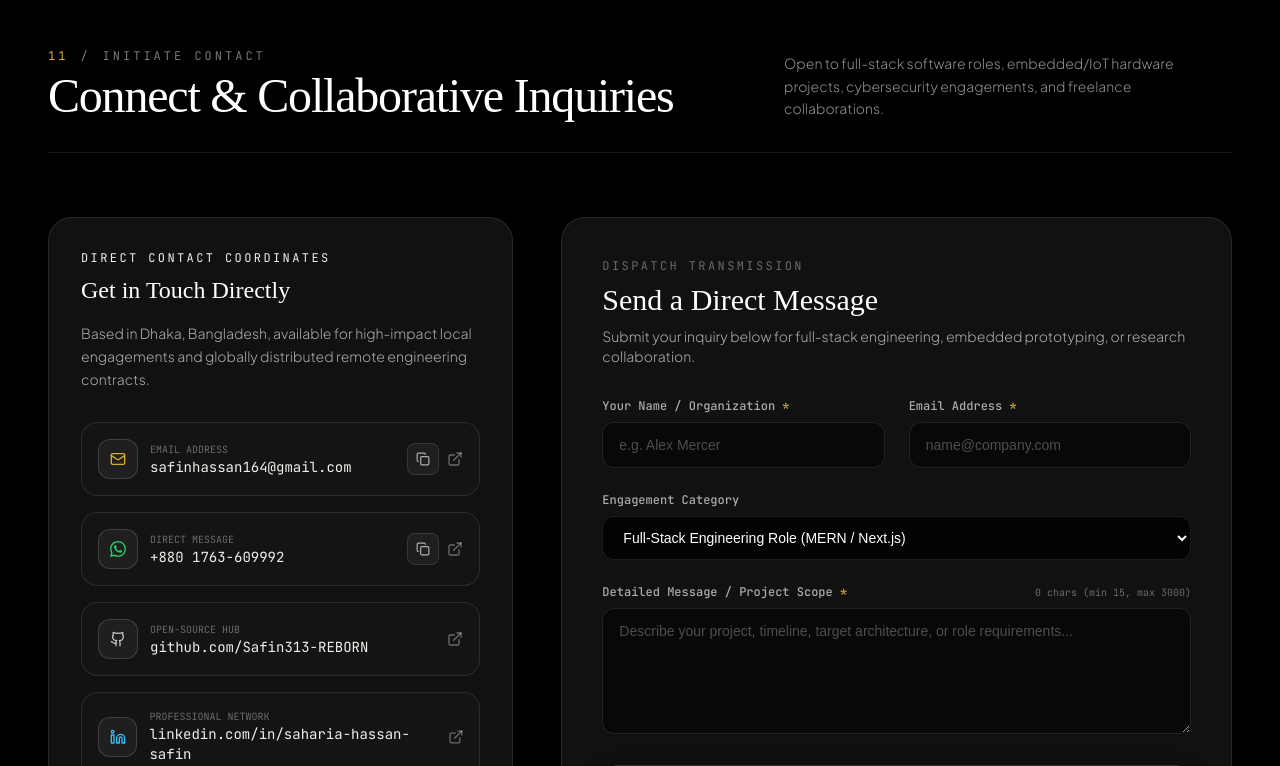
ContactSection User Journey & Boundary Validation › submits valid form silently in the background and renders success confirmation
Type "Jane Architect" into the field labelled "Your Name / Organization *" at (743, 445), box [602, 422, 885, 468]
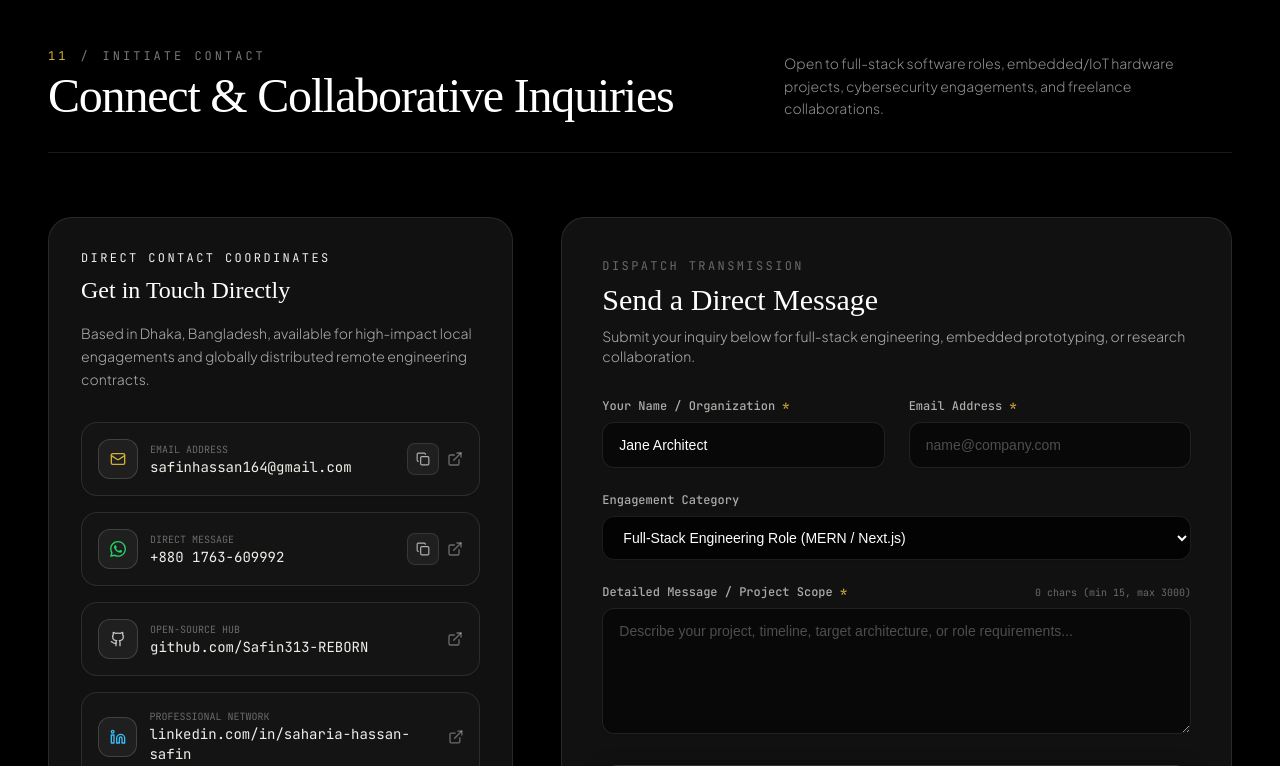
Type "jane@enterprise.com" into the field labelled "Email Address *" at (1050, 445), box [909, 422, 1191, 468]
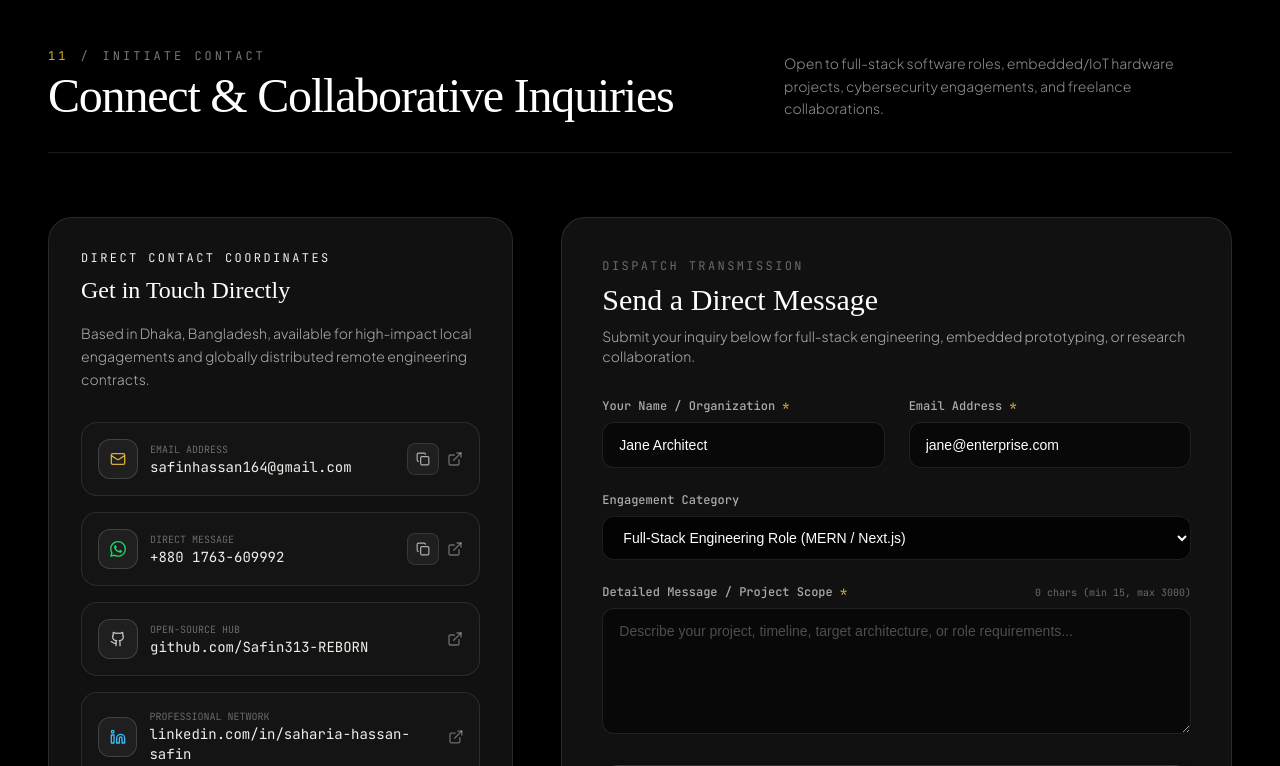
Replace the text in the text box labelled "Detailed Message / Project Scope *" with "We would love to discuss a Full-Stack MERN contract for our system." at (897, 671), box [602, 608, 1191, 734]
(page scrolled)
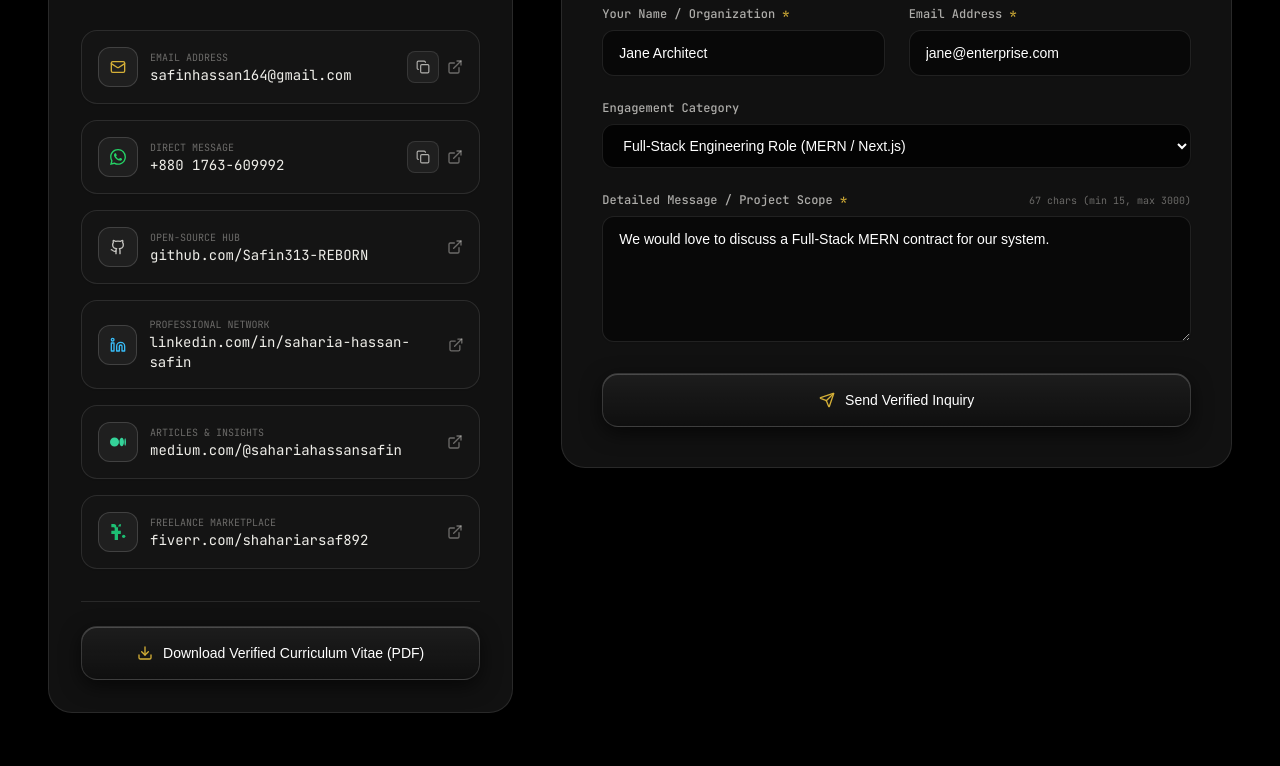
Click the button "Send Verified Inquiry" at (897, 400), box [602, 373, 1191, 427]
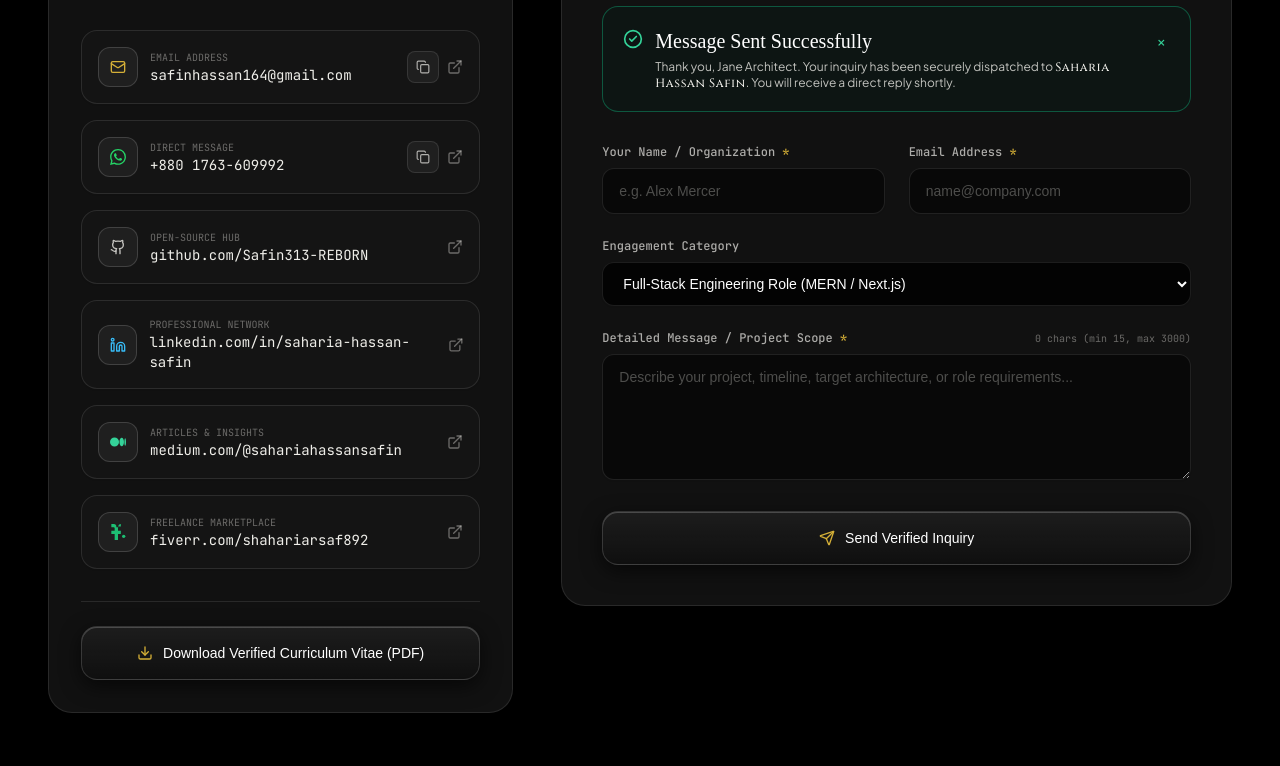
Check: the text "Message Sent Successfully" is shown, box [655, 30, 872, 52]
